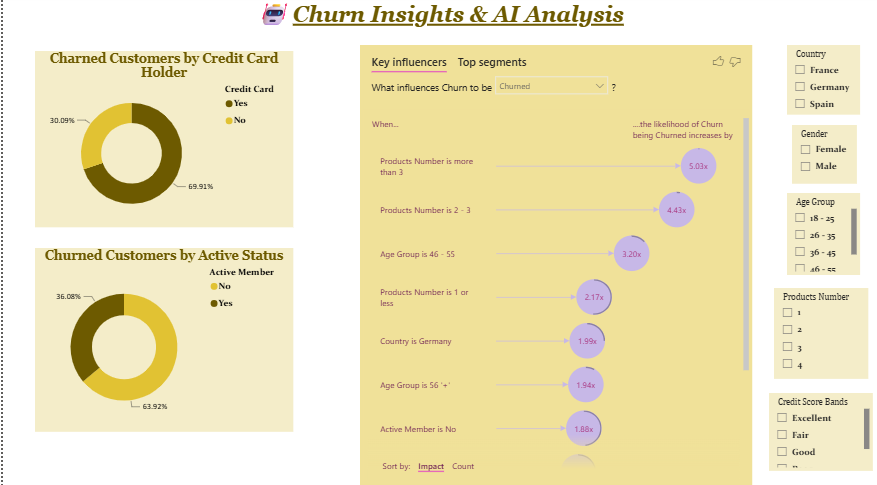

Layout of this report page (visuals, bound fields, positions):
{"tool":"powerbi","page":{"name":"Churn Analysis II","canvas":[1280,720],"ordinal":5},"visuals":[{"type":"donutChart","title":"Charned Customers by Credit Card Holder","fields":{"Category":["Bank Customer Churn Prediction.Credit Card"],"Y":["CountNonNull(Bank Customer Churn Prediction.Customer ID)"]},"box":[46.8,82,377.6,257.6],"z":0},{"type":"textbox","box":[0,0,1280.5,54.1],"z":1000},{"type":"donutChart","title":"Churned Customers by Active Status","fields":{"Category":["Bank Customer Churn Prediction.Active Member"],"Y":["CountNonNull(Bank Customer Churn Prediction.Customer ID)"]},"box":[46.8,370.2,377.6,269.3],"z":2000},{"type":"keyDriversVisual","fields":{"Target":["Bank Customer Churn Prediction.Churn"],"ExplainBy":["Bank Customer Churn Prediction.Balance","Bank Customer Churn Prediction.Credit Score Bands","Bank Customer Churn Prediction.Products Number","Bank Customer Churn Prediction.Active Member","Bank Customer Churn Prediction.Country","Bank Customer Churn Prediction.Gender","Bank Customer Churn Prediction.Age Group"]},"box":[522.4,73.2,573.7,646.8],"z":3000},{"type":"slicer","fields":{"Values":["Bank Customer Churn Prediction.Country"]},"box":[1147.3,73.2,106.8,102.4],"z":4000},{"type":"slicer","fields":{"Values":["Bank Customer Churn Prediction.Gender"]},"box":[1154.6,190.2,95.1,86.3],"z":5000},{"type":"slicer","fields":{"Values":["Bank Customer Churn Prediction.Age Group"]},"box":[1147.3,289.8,106.8,120],"z":6000},{"type":"slicer","fields":{"Values":["Bank Customer Churn Prediction.Credit Score Bands"]},"box":[1121,582.4,152.2,114.1],"z":7000},{"type":"slicer","fields":{"Values":["Bank Customer Churn Prediction.Products Number"]},"box":[1128.3,428.8,137.6,133.2],"z":8000}]}

Visuals, with their boxes in screenshot pixels (x1, y1, x2, y2), scaled from the page's 1280x720 canvas onto the 877x485 screenshot:
"Charned Customers by Credit Card Holder" donutChart: bbox=[32, 55, 291, 229]
textbox: bbox=[0, 0, 876, 36]
"Churned Customers by Active Status" donutChart: bbox=[32, 249, 291, 431]
keyDriversVisual - Bank Customer Churn Prediction.Churn x Bank Customer Churn Prediction.Balance: bbox=[358, 49, 751, 484]
slicer - Bank Customer Churn Prediction.Country: bbox=[786, 49, 859, 118]
slicer - Bank Customer Churn Prediction.Gender: bbox=[791, 128, 856, 186]
slicer - Bank Customer Churn Prediction.Age Group: bbox=[786, 195, 859, 276]
slicer - Bank Customer Churn Prediction.Credit Score Bands: bbox=[768, 392, 872, 469]
slicer - Bank Customer Churn Prediction.Products Number: bbox=[773, 289, 867, 379]
